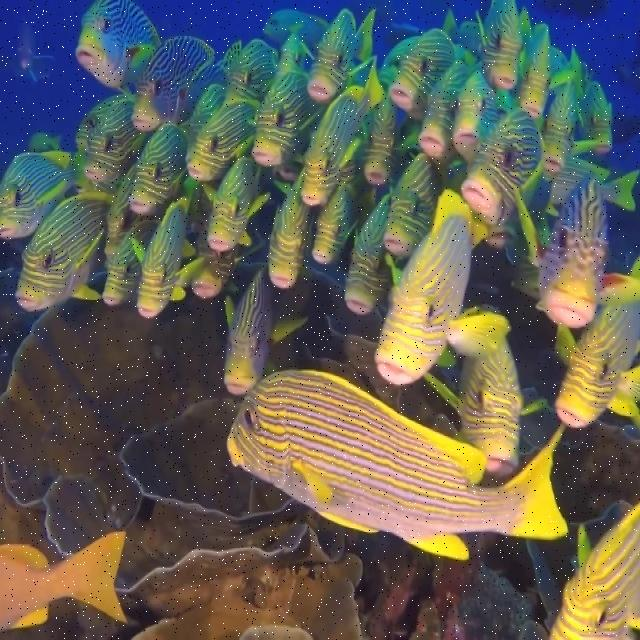fish: (226, 371, 569, 561), (374, 189, 511, 385), (516, 170, 639, 328), (424, 338, 548, 473), (0, 532, 129, 631), (547, 501, 639, 639), (301, 58, 385, 205), (15, 192, 116, 310), (554, 303, 639, 428), (225, 268, 308, 395), (461, 110, 545, 220), (131, 197, 205, 318), (132, 36, 217, 130), (178, 211, 266, 298), (75, 0, 161, 87), (1, 151, 86, 239), (252, 68, 328, 165), (384, 153, 449, 256), (306, 8, 376, 101), (390, 28, 456, 123), (204, 158, 272, 250), (419, 60, 482, 155), (189, 98, 259, 180), (129, 122, 189, 213), (543, 80, 600, 174), (345, 194, 390, 313), (268, 169, 313, 287), (84, 97, 145, 180), (104, 219, 161, 306), (476, 1, 529, 88), (454, 72, 502, 161), (311, 183, 360, 262), (2, 15, 57, 81), (366, 93, 399, 184), (523, 23, 552, 118), (584, 81, 612, 152)
reefs: (2, 290, 362, 639)
